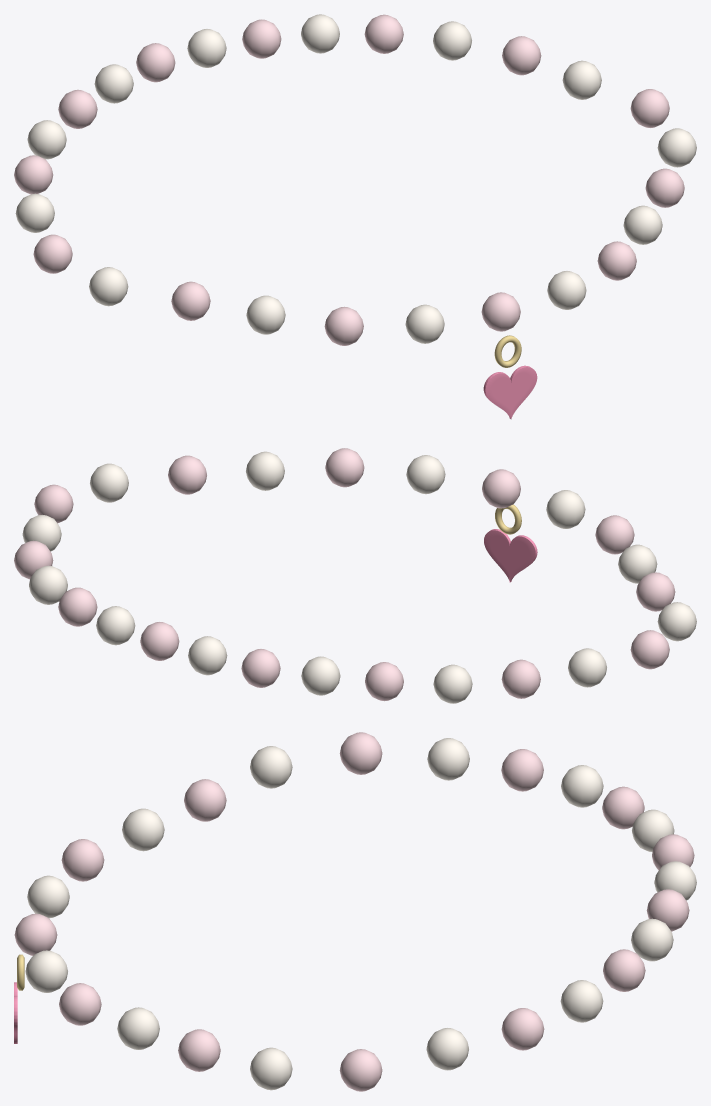
Rendered from necklace_heart_bear_tailored.glb.
3 renders of one model, top to bottom at view 1: azimuth 30°, elevation 25°; view 2: azimuth 150°, elevation 25°; view 3: azimuth 270°, elevation 25°, orthographic. The views are drawn at different scales.
Visible parts, largest first — view 1: Corazón bordado.003, Perla.048, Perla.026, Perla.031, Perla.037, Perla.049, Perla.028, Perla.038, Perla.041, Perla.029, Perla.034, Perla.035 (+15 smaller); view 2: Corazón bordado.003, Perla.041, Perla.043, Perla.045, Perla.026, Perla.028, Perla.036, Perla.027, Perla.031, Perla.046, Perla.030, Perla.038 (+16 smaller); view 3: Perla.034, Perla.030, Perla.050, Perla.028, Perla.035, Perla.043, Perla.044, Perla.045, Perla.047, Perla.048, Perla.029, Perla.032 (+14 smaller).
Boxes of the visible parts, bbox=[...] form: Corazón bordado.003: bbox=[483, 365, 537, 419]; Perla.048: bbox=[171, 281, 210, 320]; Perla.026: bbox=[481, 292, 520, 331]; Perla.031: bbox=[657, 128, 696, 167]; Perla.037: bbox=[301, 14, 339, 53]; Perla.049: bbox=[246, 295, 285, 334]; Perla.028: bbox=[597, 241, 636, 280]; Perla.038: bbox=[242, 19, 281, 58]; Perla.041: bbox=[94, 64, 133, 103]; Perla.029: bbox=[623, 205, 662, 244]; Perla.034: bbox=[502, 36, 541, 75]; Perla.035: bbox=[433, 21, 471, 60]; Corazón bordado.003: bbox=[484, 529, 537, 582]; Perla.041: bbox=[301, 656, 340, 695]; Perla.043: bbox=[433, 664, 472, 703]; Perla.045: bbox=[568, 648, 606, 687]; Perla.026: bbox=[482, 469, 520, 508]; Perla.028: bbox=[325, 448, 364, 487]; Perla.036: bbox=[58, 587, 97, 626]; Perla.027: bbox=[406, 455, 445, 494]; Perla.031: bbox=[90, 463, 128, 502]; Perla.046: bbox=[630, 630, 669, 669]; Perla.030: bbox=[168, 455, 206, 494]; Perla.038: bbox=[140, 622, 179, 660]; Perla.034: bbox=[501, 1008, 544, 1050]; Perla.030: bbox=[178, 1029, 220, 1071]; Perla.050: bbox=[61, 839, 104, 881]; Perla.028: bbox=[59, 983, 101, 1025]; Perla.035: bbox=[560, 980, 603, 1022]; Perla.043: bbox=[561, 765, 603, 807]; Perla.044: bbox=[501, 749, 543, 791]; Perla.045: bbox=[427, 738, 469, 780]; Perla.047: bbox=[250, 746, 292, 788]; Perla.048: bbox=[184, 779, 226, 821]; Perla.029: bbox=[117, 1007, 159, 1049]; Perla.032: bbox=[339, 1049, 382, 1091].
Bounding box in the file's own units: 0.6298 × 0.1586 × 0.543.
